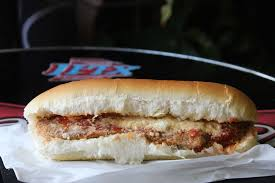sandwich: (5, 71, 275, 177)
